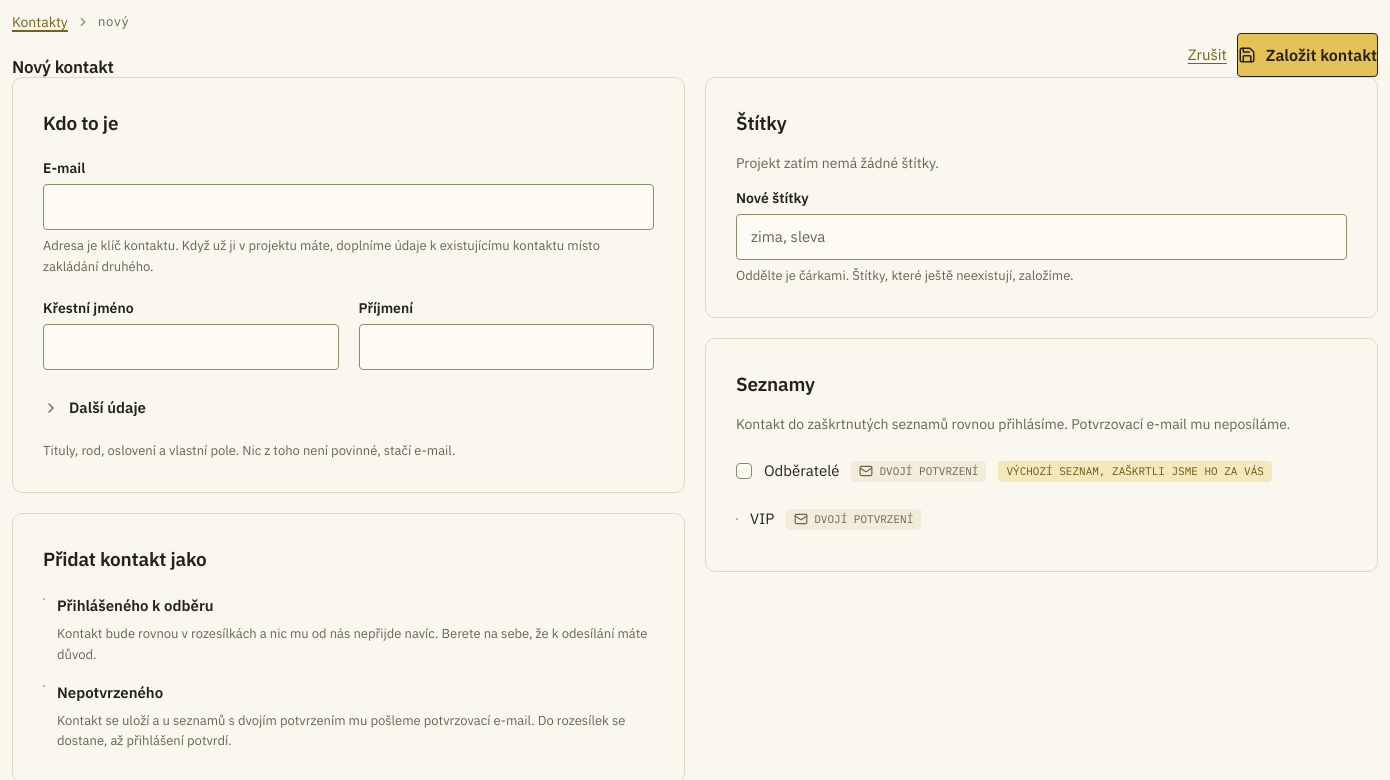
Test: ContactForm a předvyplněný seznam › u nepotvrzeného kontaktu ohlásí odchozí e-mail i s názvem seznamu
This screenshot has width=1390, height=780.
What coordinates should you click on to do the following:
click the 2nd radio button named "Nepotvrzeného"
I would click on:
 (44, 686)
Its box is [43, 685, 45, 687].
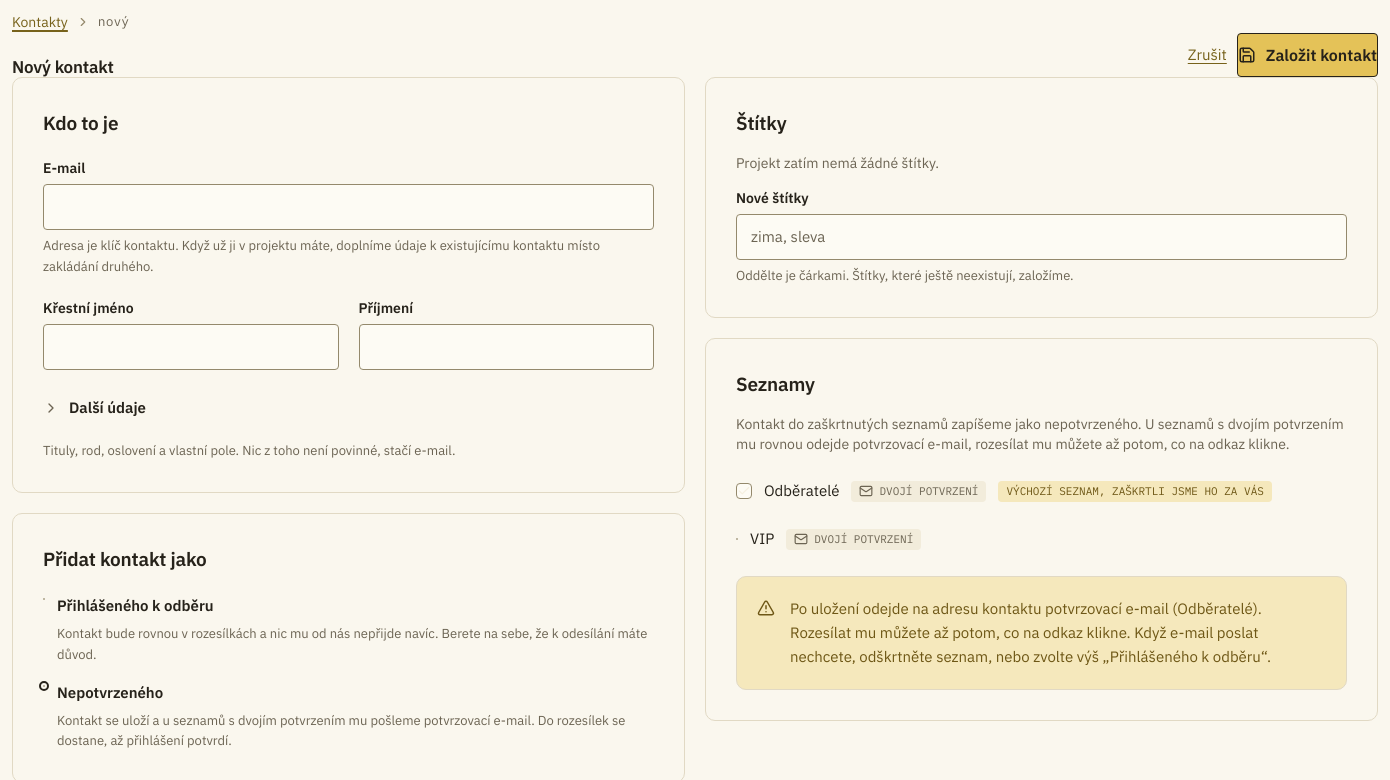
Expected: the message with test id "confirmation-email-warning" does not show "VIP", [736, 576, 1347, 690]
Expected: the message with test id "confirmation-email-warning" shows "odejde na adresu kontaktu potvrzovací e-mail", [790, 599, 1271, 666]
Expected: the message with test id "confirmation-email-warning" shows "Odběratelé", [790, 599, 1271, 666]
